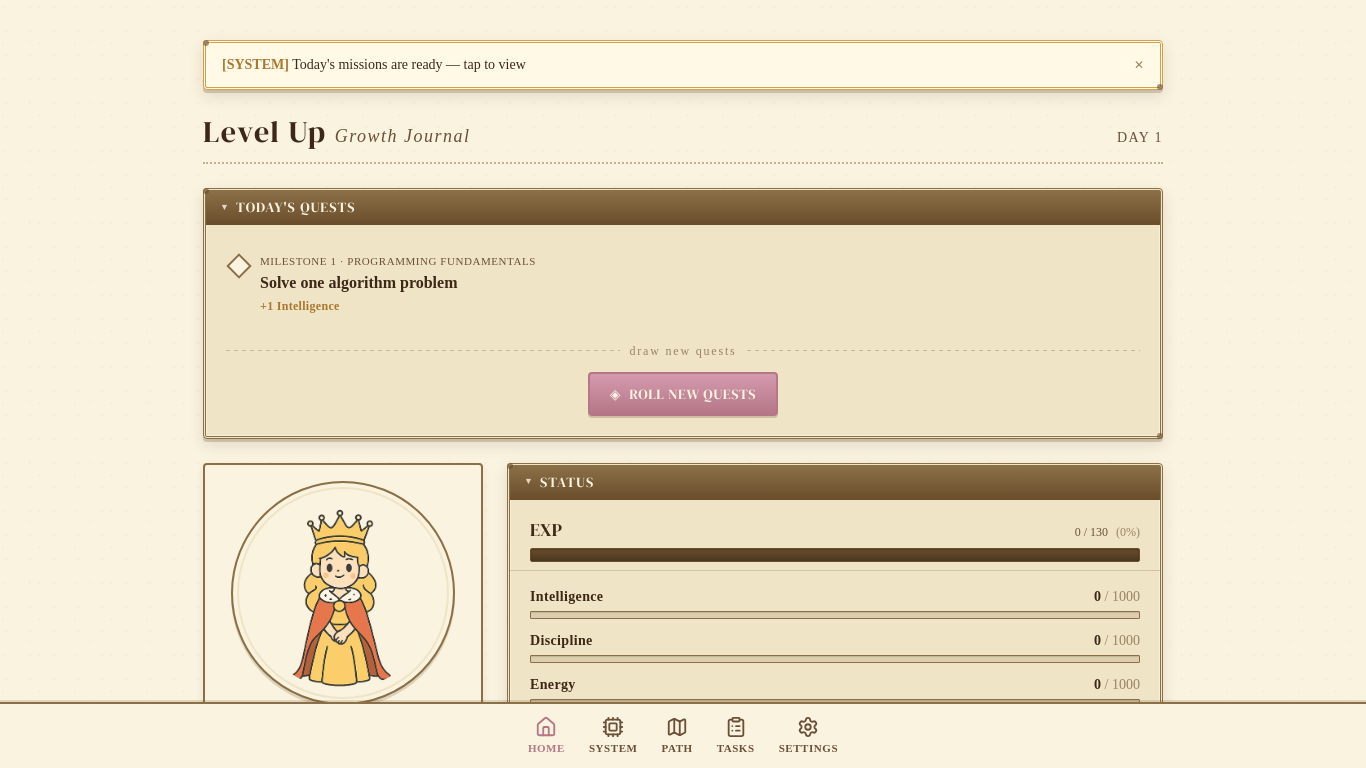
Test: HomePage quest feedback › says what a completed quest earned
Step 1. Click the text "Solve one algorithm problem" → (359, 282), box [260,274,458,290]
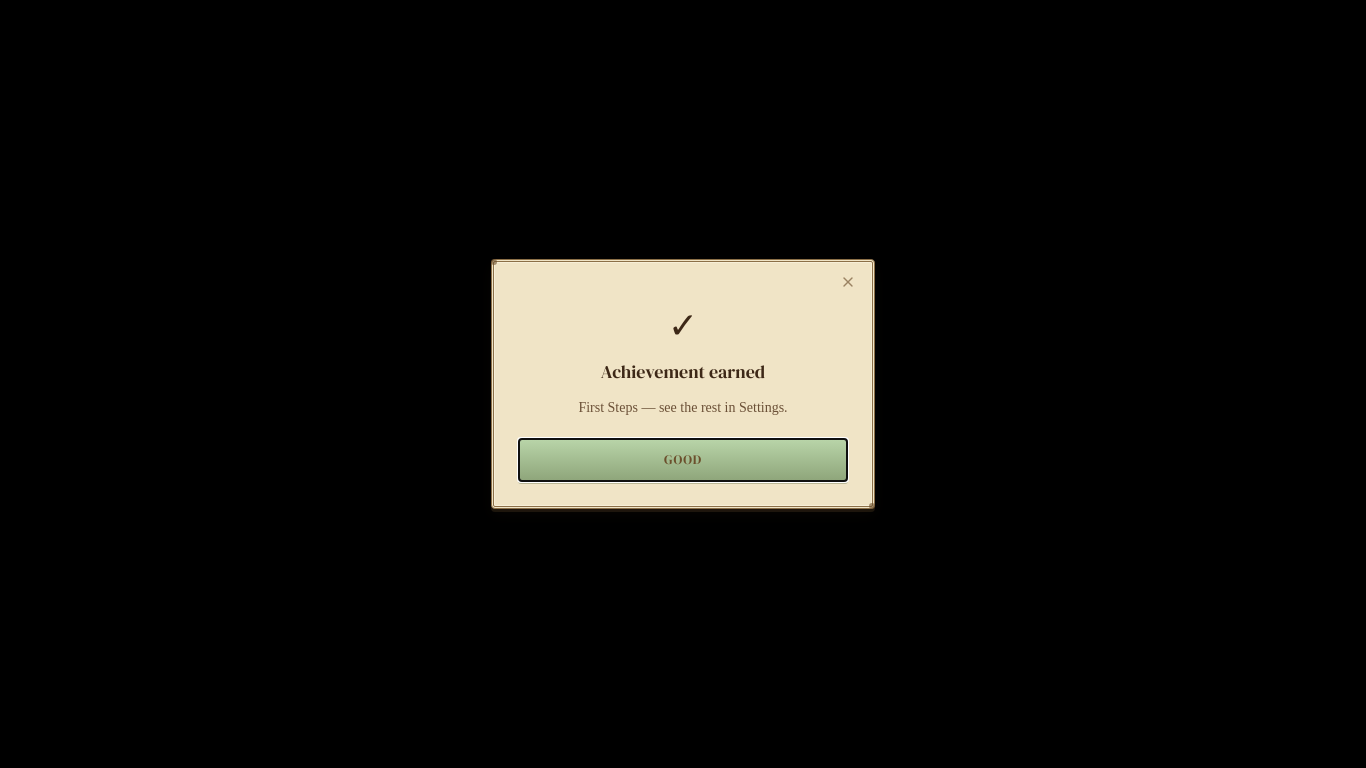
Expected: the text "First Steps — see the rest in Settings." is shown, [578,400,788,415]
